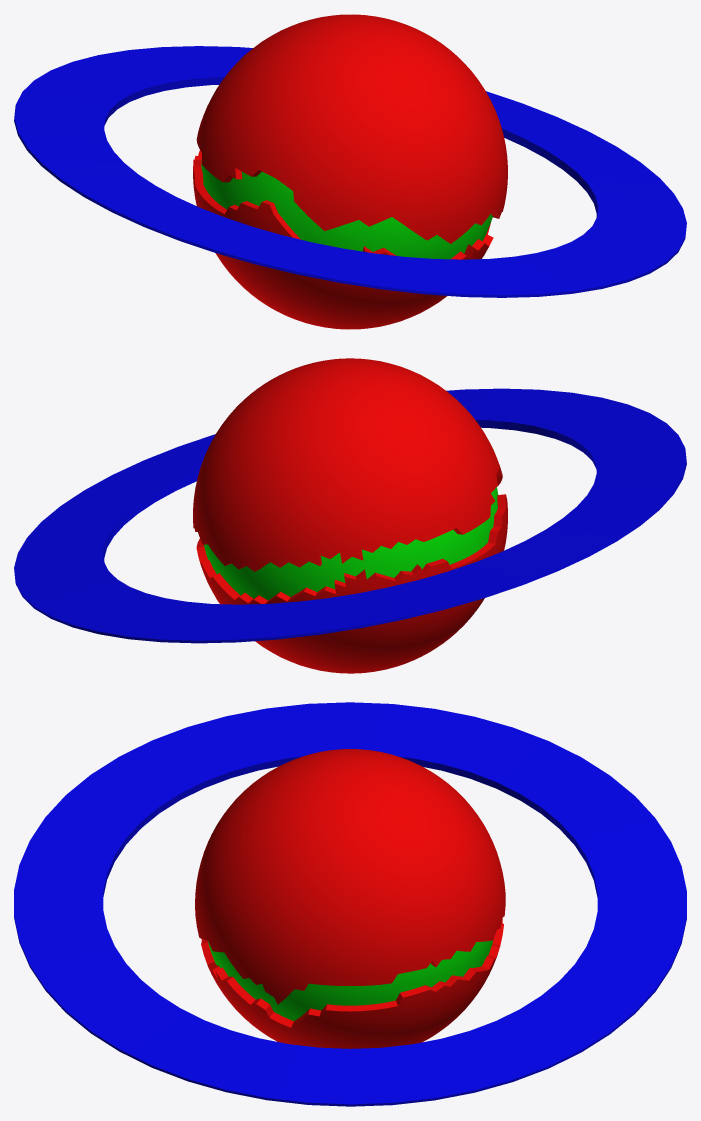
The model's file is planet_D.fbx.
The picture shows the model from 3 angles, top to bottom: view 1: azimuth 30°, elevation 25°; view 2: azimuth 150°, elevation 25°; view 3: azimuth 270°, elevation 25°; orthographic projection.
Visible parts, largest first — view 1: planet_D, D_ring1; view 2: planet_D, D_ring1; view 3: D_ring1, planet_D.
Part boxes in pixels (x1,y1,x2,y2): planet_D: (193,14,507,329); D_ring1: (14,46,686,297); planet_D: (193,358,507,673); D_ring1: (14,388,686,643); D_ring1: (14,702,686,1106); planet_D: (195,749,505,1048).
Size of the model in its own units: 305 by 143 by 310.
